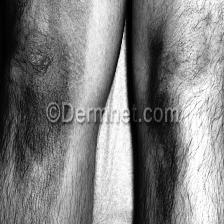Benign Marking or Mole: (22, 28, 68, 152), (156, 124, 179, 218)
